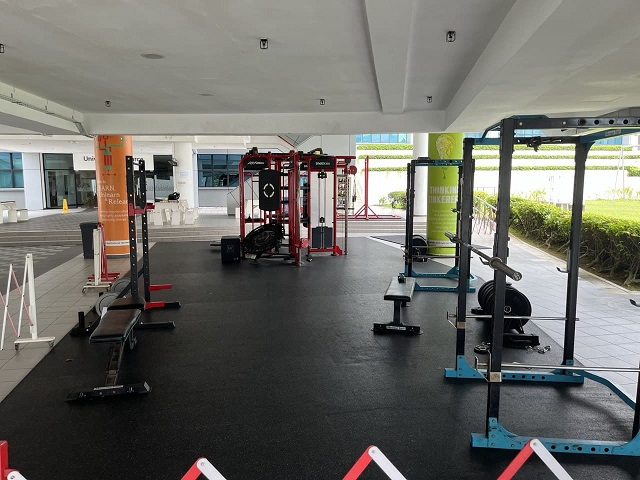weights: (475, 275, 535, 330), (405, 231, 429, 263)
